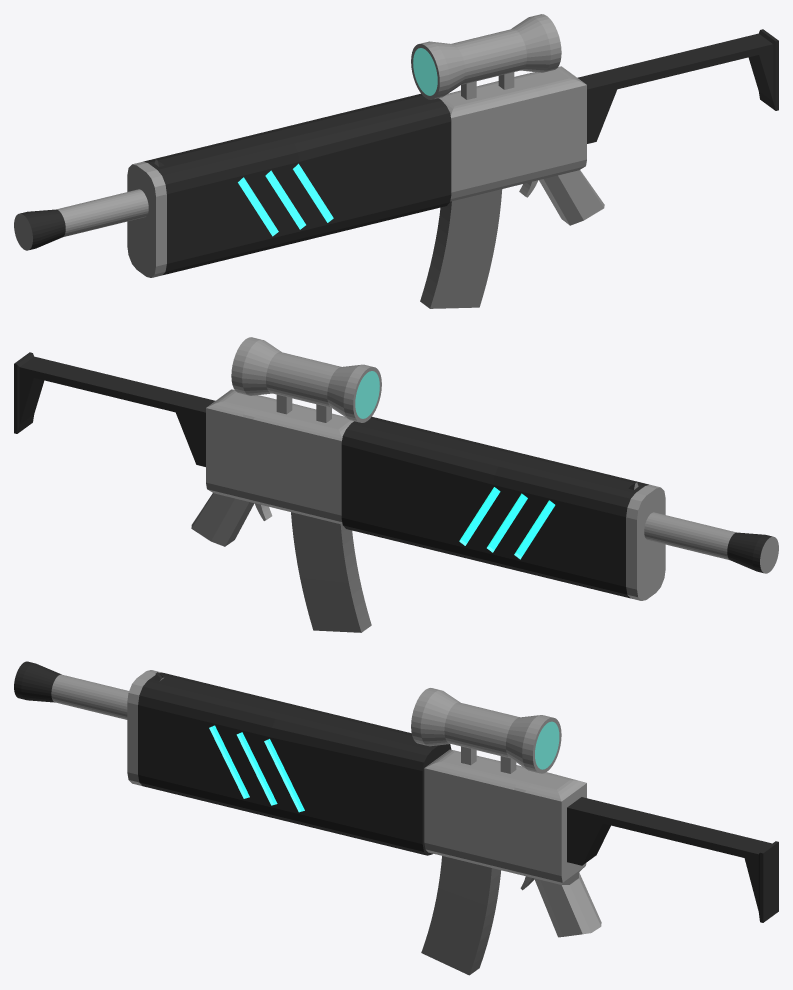
The model's file is rifle.glb.
3 renders of one model, top to bottom at view 1: azimuth 30°, elevation 25°; view 2: azimuth 150°, elevation 25°; view 3: azimuth 330°, elevation 25°, orthographic.
Visible parts, largest first — view 1: Rifle, Magazine; view 2: Rifle, Magazine; view 3: Rifle, Magazine.
Boxes of the visible parts, box(x1,y1,x2,y2) form: Rifle: box(14, 14, 778, 277); Magazine: box(420, 189, 502, 308); Rifle: box(14, 337, 778, 600); Magazine: box(291, 512, 371, 632); Rifle: box(14, 661, 778, 937); Magazine: box(421, 856, 501, 975).
Size of the model in its own units: 3 by 1.04 by 0.2.
